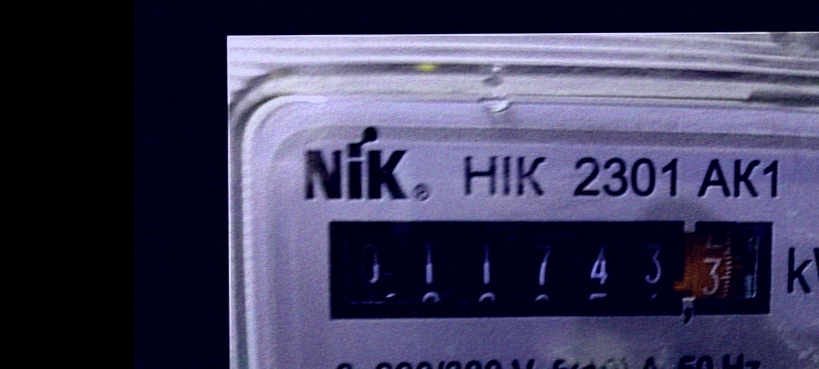0: (357, 239, 386, 286)
1: (477, 239, 498, 288), (422, 240, 439, 288)
3: (641, 240, 669, 287), (701, 254, 725, 298)
4: (587, 240, 615, 288)
7: (533, 241, 557, 289)
screen: (315, 209, 782, 330)
